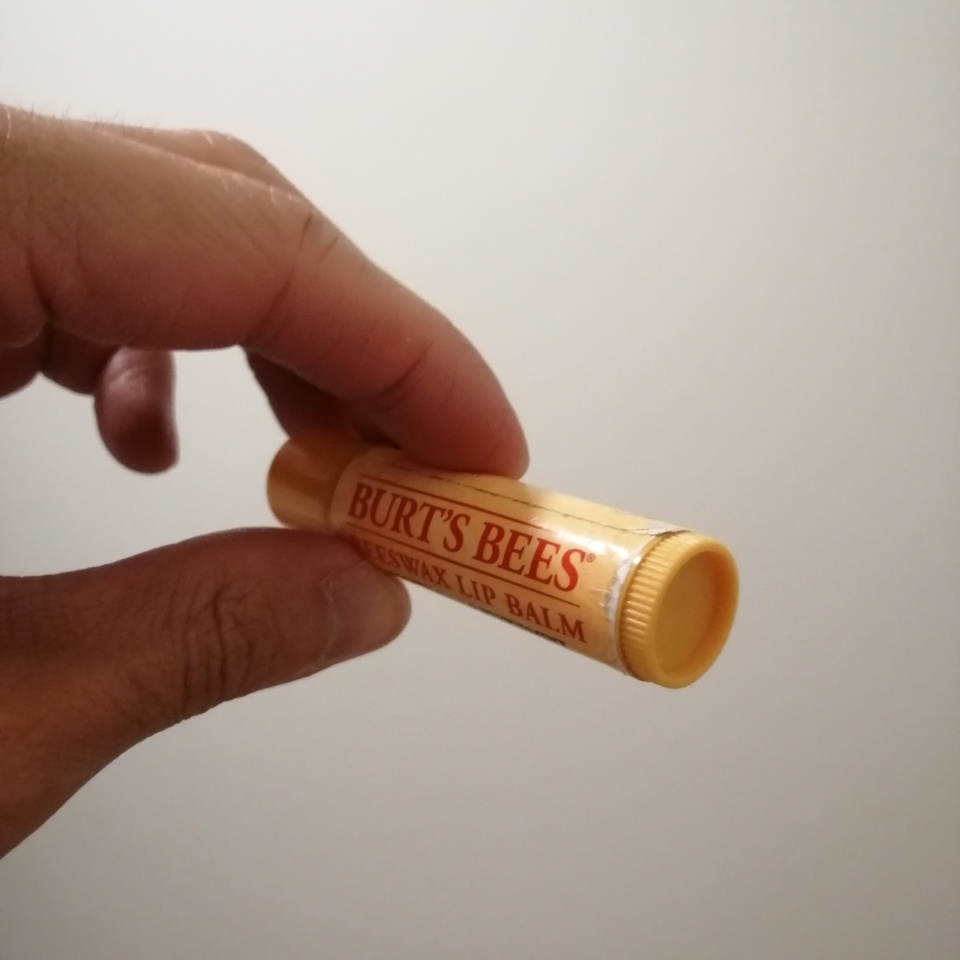chapstick: (267, 429, 743, 690)
